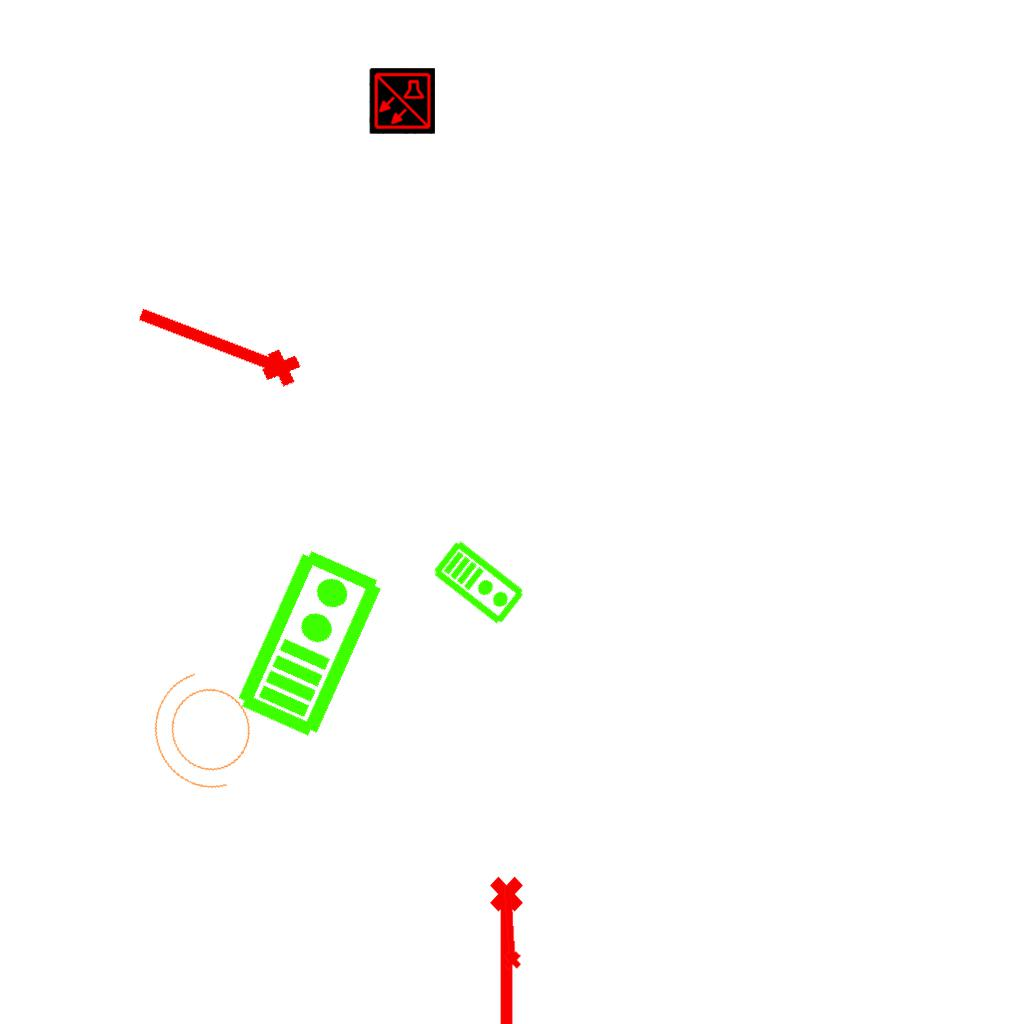ASR_Ansaugoeffnung: (126, 292, 308, 400), (486, 874, 532, 1024), (494, 881, 524, 972)
Gegensprechanlage_mit_Video: (229, 542, 388, 742), (430, 536, 529, 628)
OKW_Multisensormelder_(Kombination_optischer_Rauch-Kahlenmonoxid_Waerme-Melder): (369, 68, 435, 134)
Scheinwerfer_fuer_Alarmbeleuchtung: (134, 655, 280, 813)
